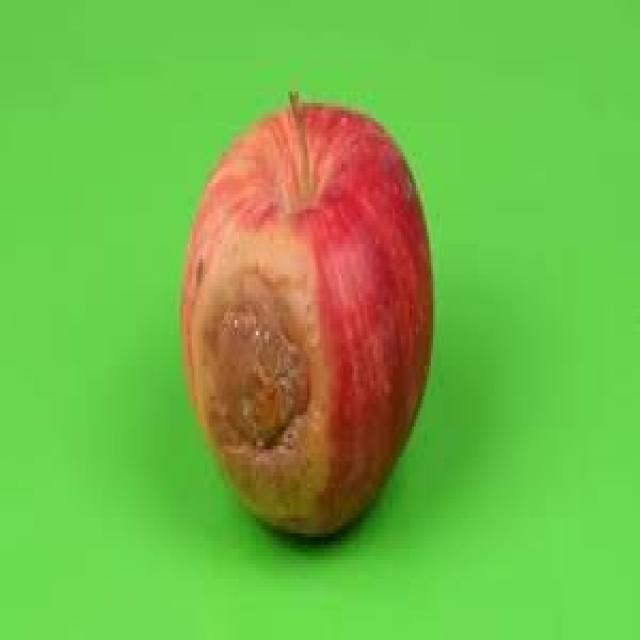Rotten Apple: (186, 102, 434, 541)
